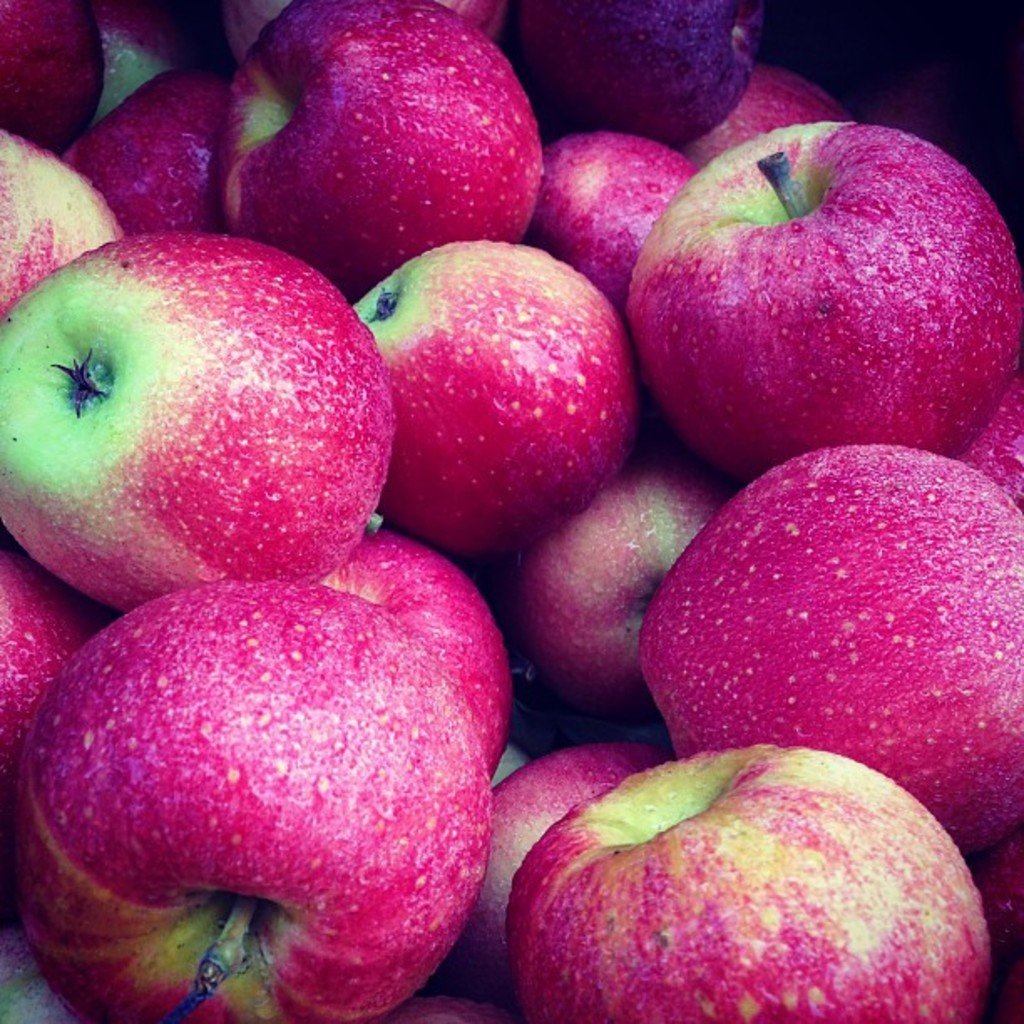Apple: (0, 0, 1022, 1022), (6, 575, 491, 1022), (0, 229, 399, 602)
